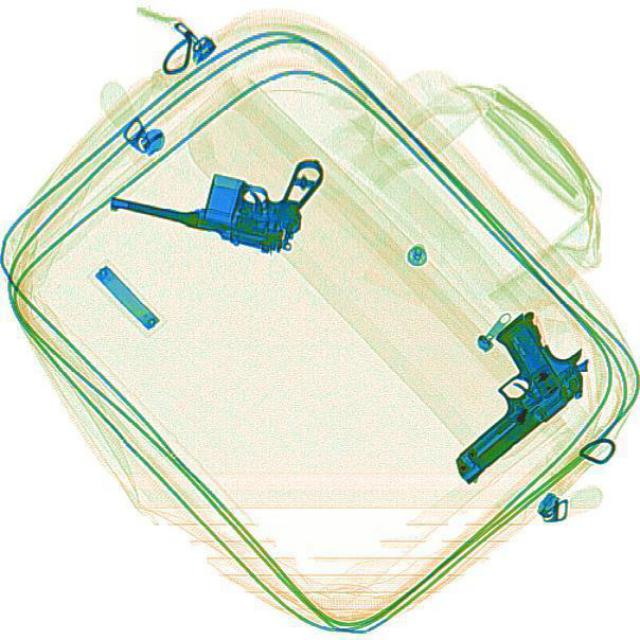Gun: (399, 301, 605, 487), (105, 112, 327, 258)
